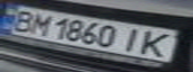0: (96, 23, 121, 48)
1: (48, 15, 72, 40)
6: (81, 20, 100, 46)
8: (66, 17, 84, 43)
B: (3, 7, 39, 33)
I: (118, 25, 148, 53)
K: (133, 29, 181, 58)
M: (24, 11, 54, 37)
